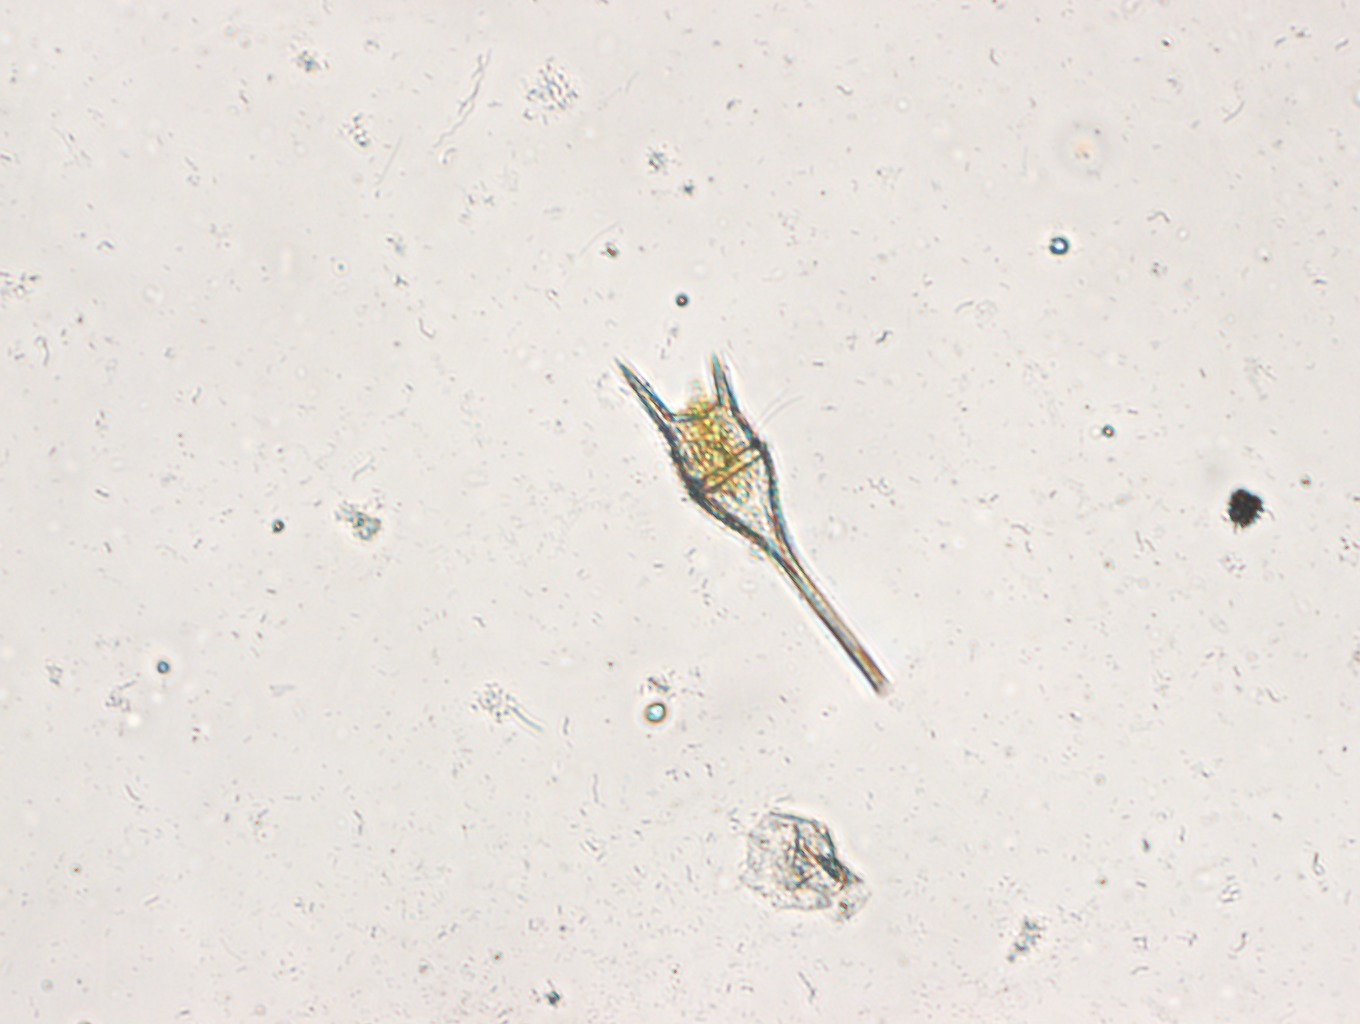ceratium furca: (607, 341, 894, 703)
